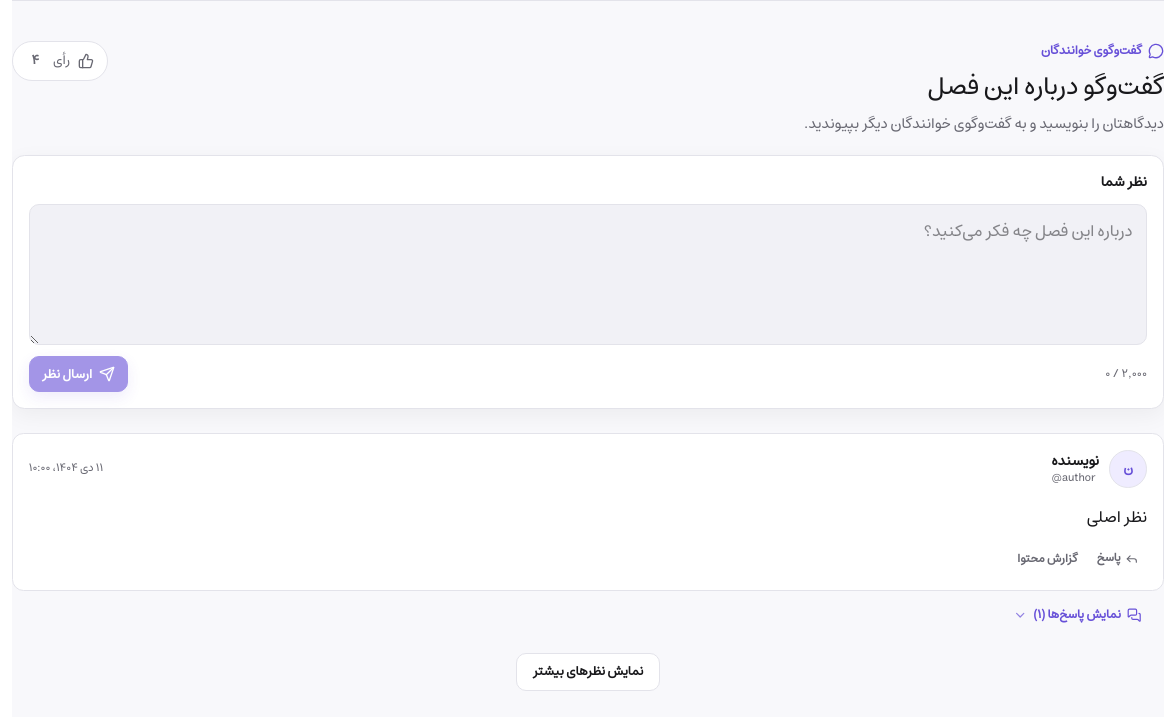
Scenario: ReaderInteractions › loads the next page without discarding the first page
Check: the text "نظر اصلی" is shown, box [1087,503,1147,531]
Click the button "نمایش نظرهای بیشتر": (588, 672) [516,653,660,691]
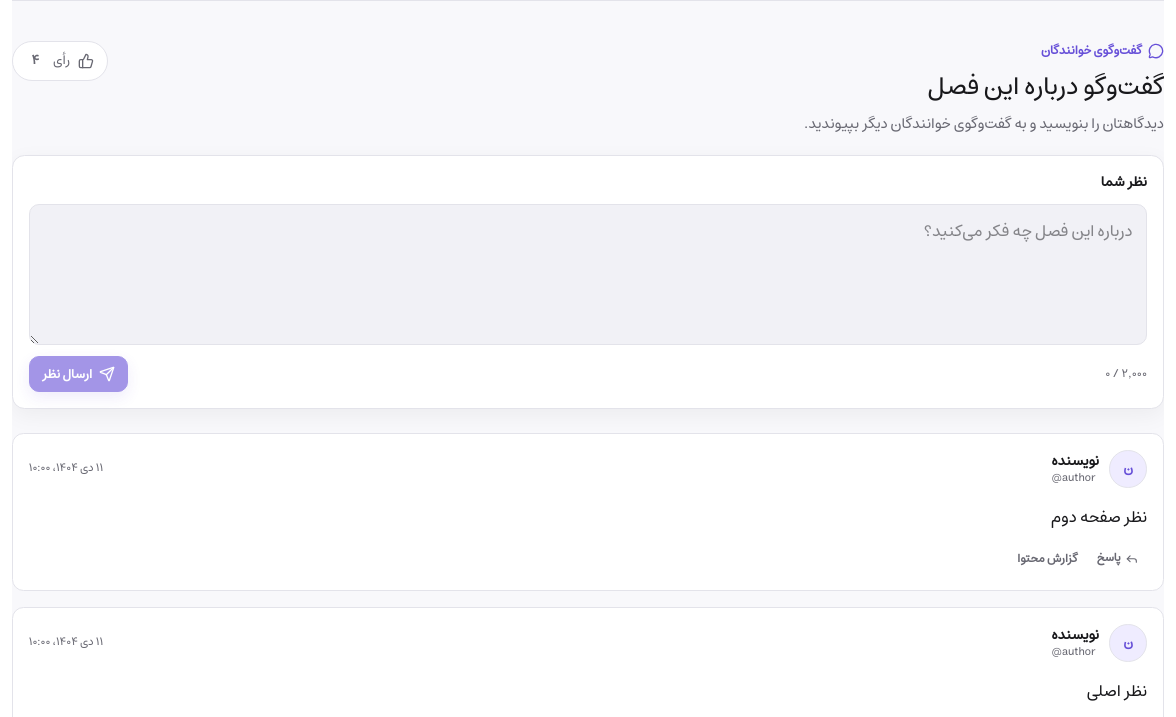
Check: the text "نظر اصلی" is shown, box [1087,677,1147,705]
Check: the text "نظر صفحه دوم" is shown, box [1051,503,1147,531]
